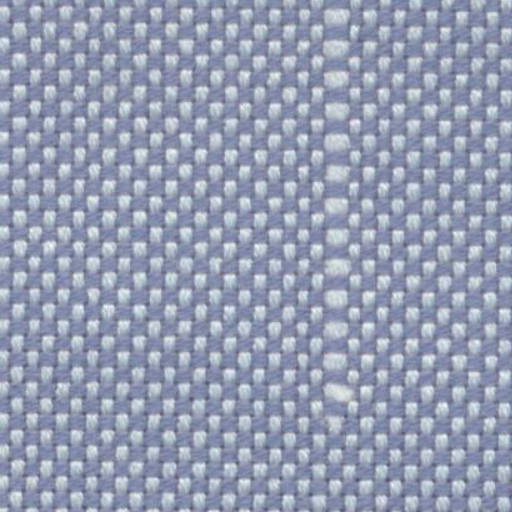TuoSha: (300, 7, 386, 406)
